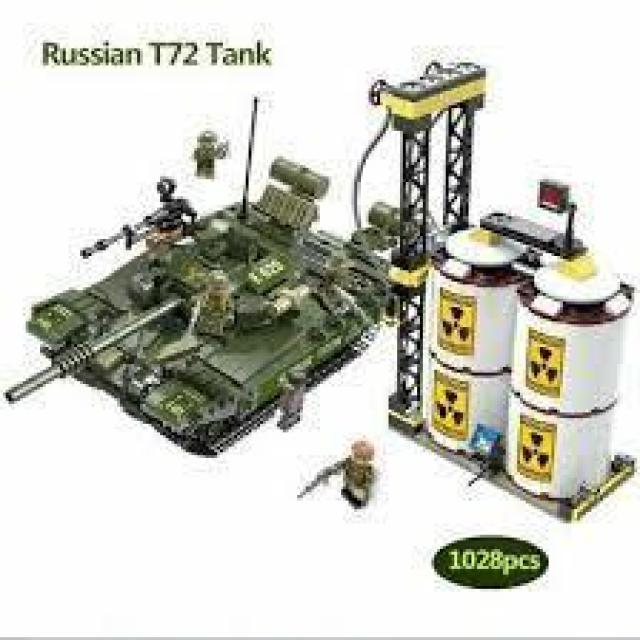Tanks: (13, 64, 413, 562)
